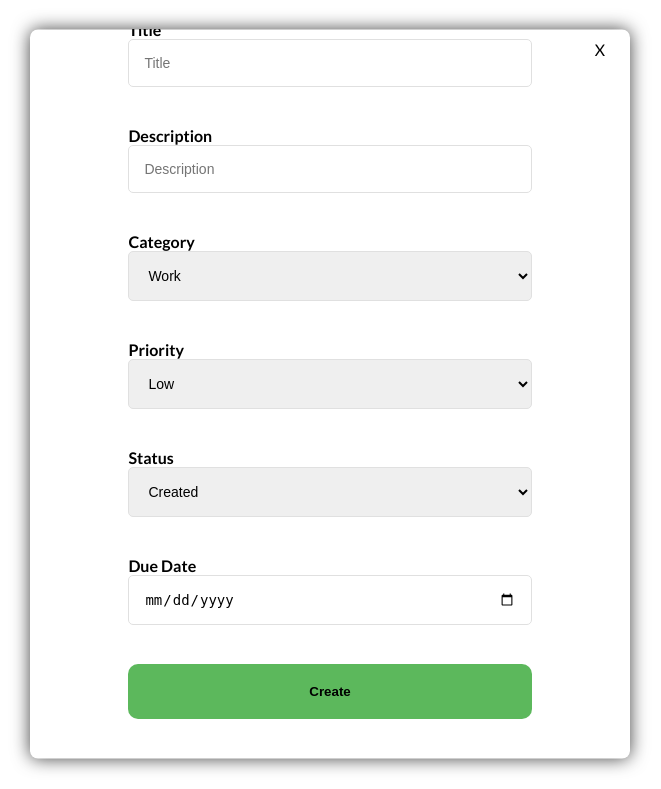
Test: shows validation errors when fields are empty
This screenshot has width=661, height=789.
(page scrolled)
Click the button at (330, 692), box 128,664 -> 532,720
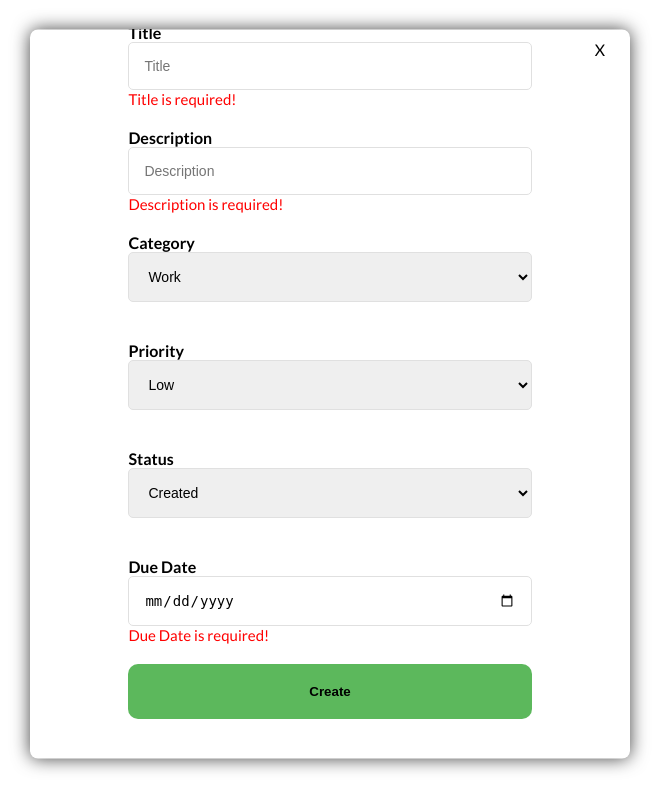
Expected: the text "Title is required!" is shown, 128,90 -> 236,108
Expected: the text "Description is required!" is shown, 128,196 -> 283,214
Expected: the text "Due Date is required!" is shown, 128,626 -> 269,644
